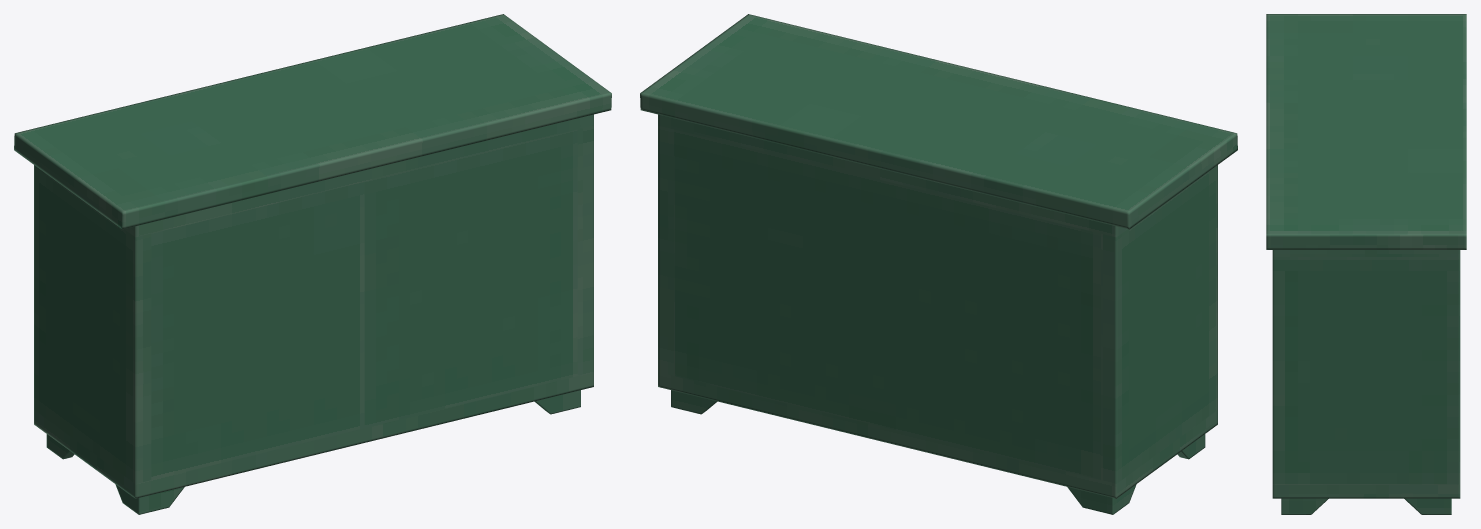
Rendered from a_com_house_a01_shelf01_green.gltf.
3 renders of one model, left to right at view 1: azimuth 30°, elevation 25°; view 2: azimuth 150°, elevation 25°; view 3: azimuth 270°, elevation 25°, orthographic. The views are drawn at different scales.
Visible parts, largest first — view 1: a_com_house_a01_shelf01_mesh_shape:a_com_house_a01_shelf01_0; view 2: a_com_house_a01_shelf01_mesh_shape:a_com_house_a01_shelf01_0; view 3: a_com_house_a01_shelf01_mesh_shape:a_com_house_a01_shelf01_0.
Part boxes in pixels (x1,y1,x2,y2): a_com_house_a01_shelf01_mesh_shape:a_com_house_a01_shelf01_0: [14, 14, 611, 514]; a_com_house_a01_shelf01_mesh_shape:a_com_house_a01_shelf01_0: [640, 14, 1237, 514]; a_com_house_a01_shelf01_mesh_shape:a_com_house_a01_shelf01_0: [1266, 14, 1466, 514].
Size of the model in its own units: 1.55 by 0.9507 by 0.5944.
Materials: 1 (1 with a texture image).
